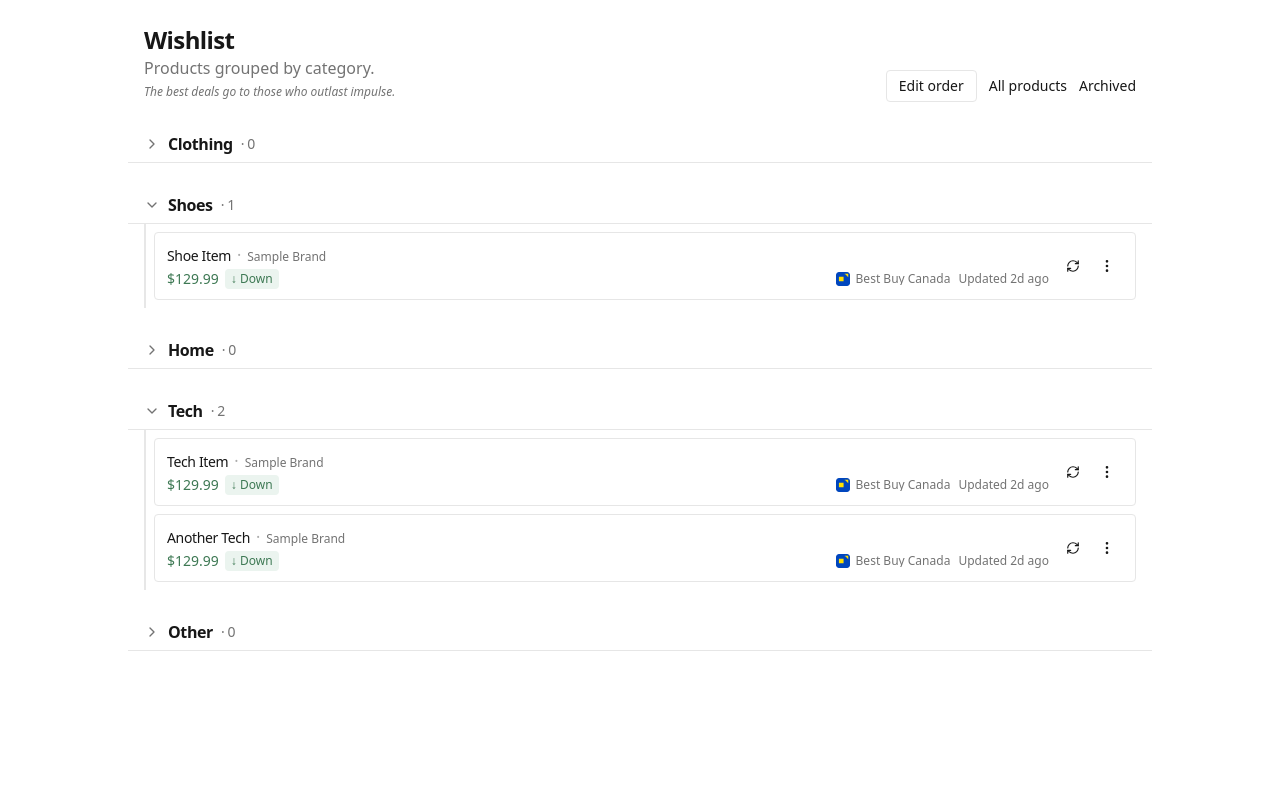
Test: DashboardPage grouping › collapses and expands a category section
Check: the heading "Tech Item" is shown, box 167,452 -> 228,471
Click the button "Tech · 2". click: coordinates (185, 411)
box: 144,399 -> 1136,423
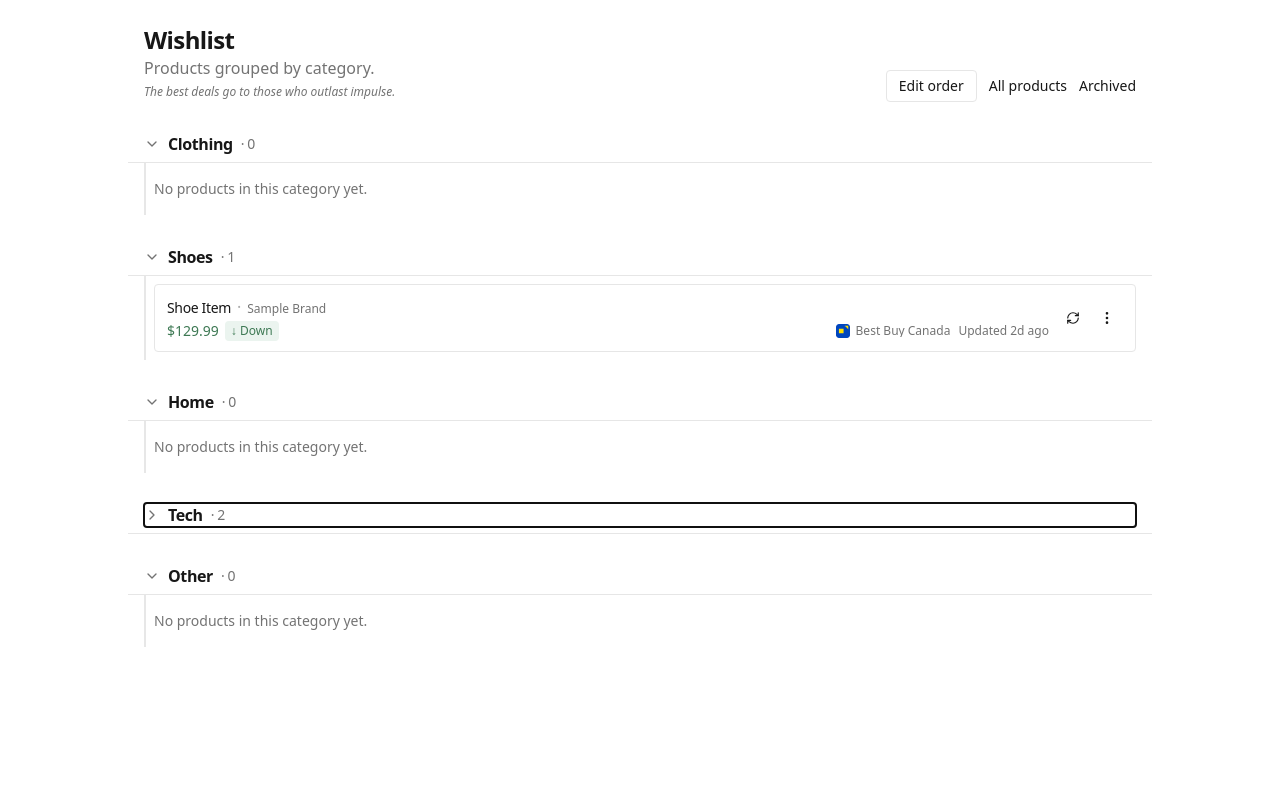
Check: the link "Tech Item" is gone
Click the button "Tech · 2". click: coordinates (185, 515)
box: 144,503 -> 1136,527
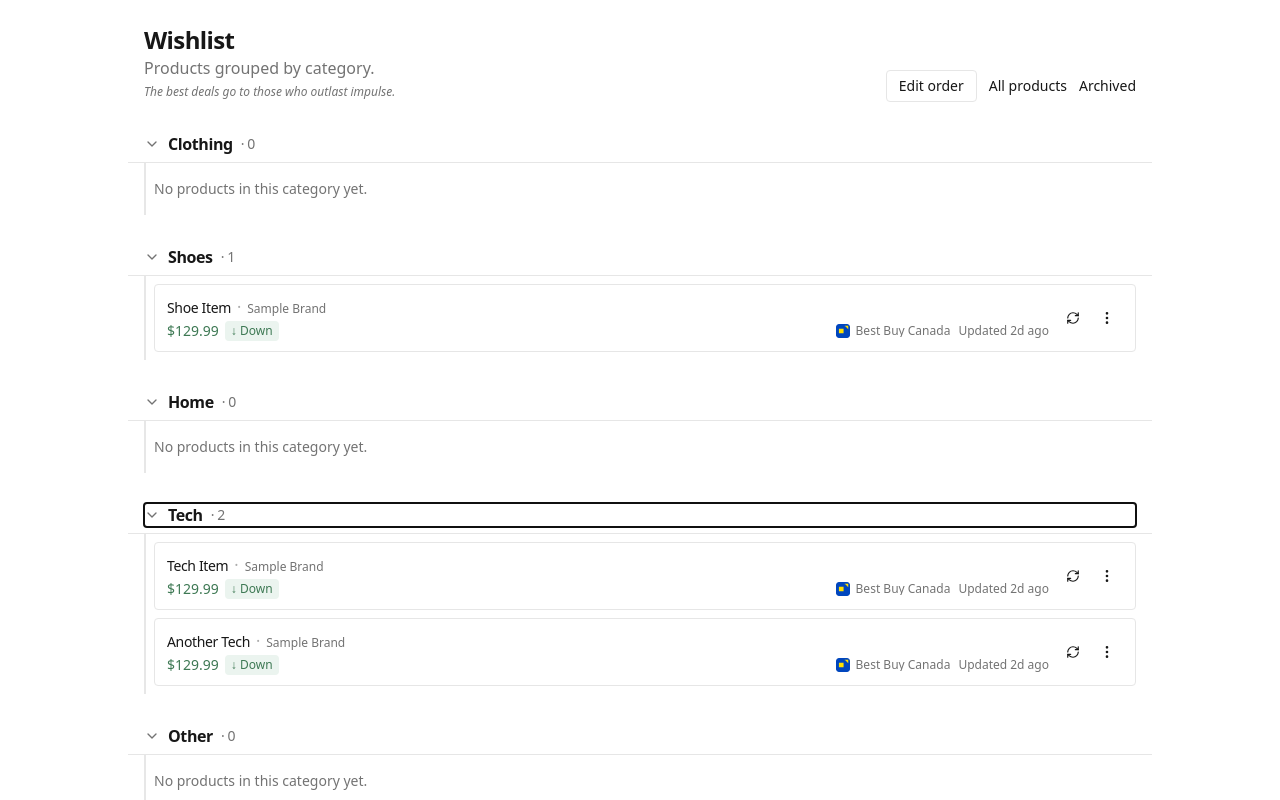
Check: the heading "Tech Item" is shown, box 167,556 -> 228,575
